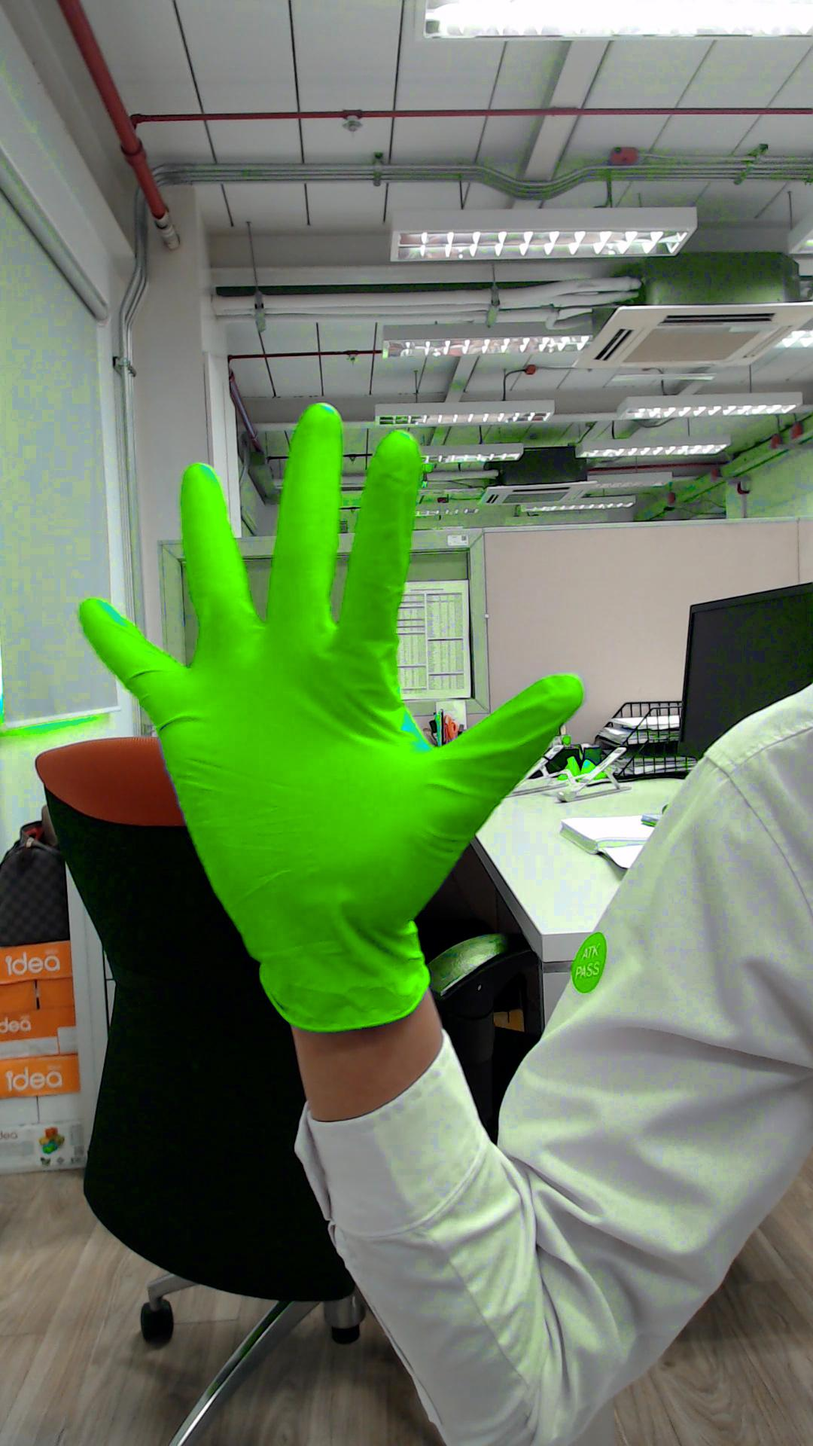gloves: (69, 388, 595, 926)
